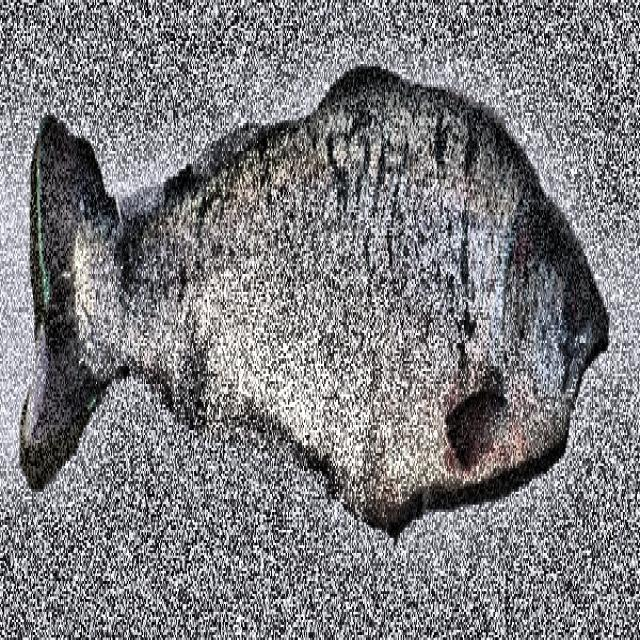mild_red: (74, 69, 518, 512)
